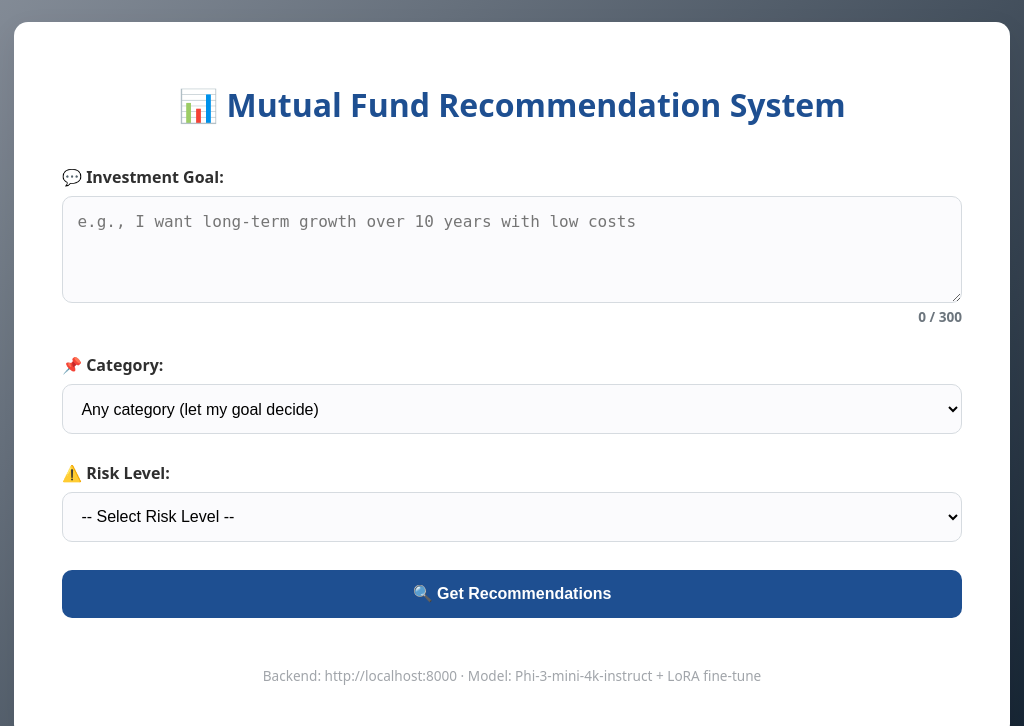
Test case: shows recommendations from the backend
This screenshot has width=1024, height=726.
Expected: the text "· Model: Phi-3-mini-4k-instruct + LoRA fine-tune" is shown, [457, 666, 761, 685]
Type "Long-term growth over ten years" into the text box with placeholder "e.g., I want long-term growth over 10 years with low costs".
click(512, 250); type("Long-term growth over ten years")  # box [62, 196, 962, 303]
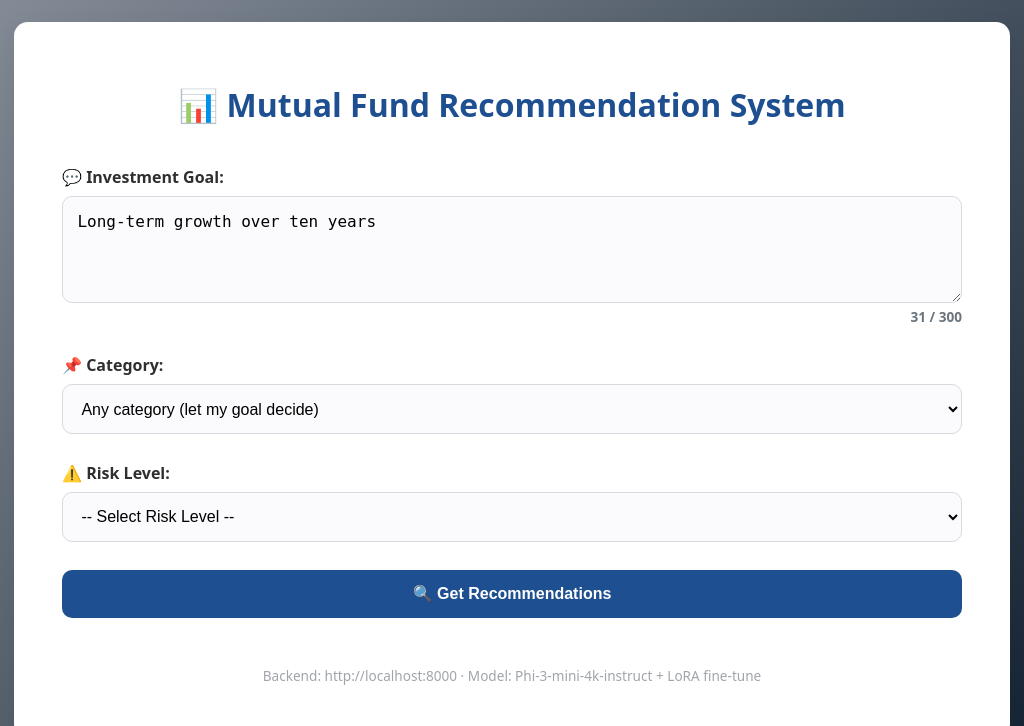
Select "High" in the dropdown labelled "⚠️ Risk Level:" at x=512, y=517, box [62, 492, 962, 542]
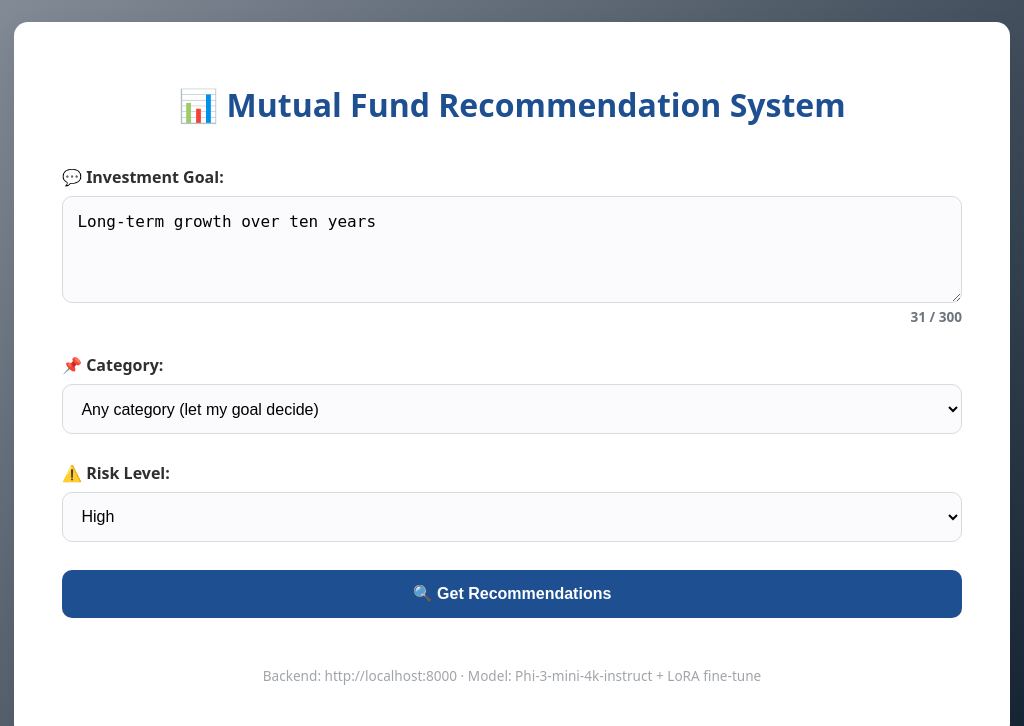
Click the button "🔍 Get Recommendations".
click(512, 594)  # box [62, 570, 962, 618]
(page scrolled)
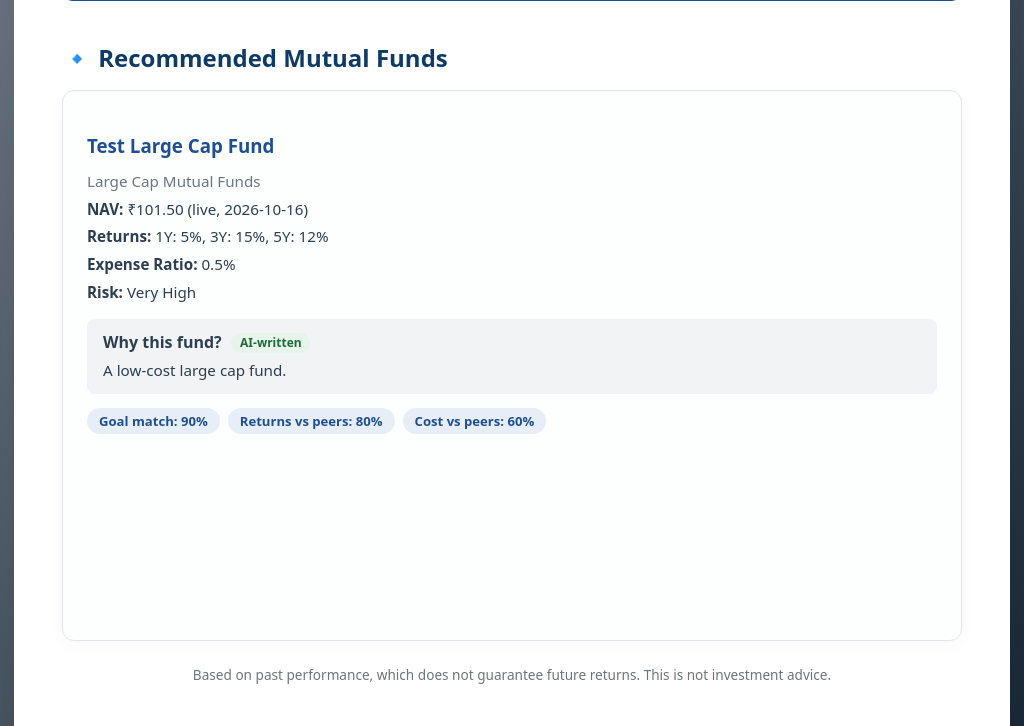
Result: the heading "Test Large Cap Fund" is shown at [87, 133, 274, 158]
Result: the text "A low-cost large cap fund." is shown at [103, 360, 286, 380]
Result: the text "₹101.50 (live, 2026-10-16)" is shown at [127, 199, 308, 219]
